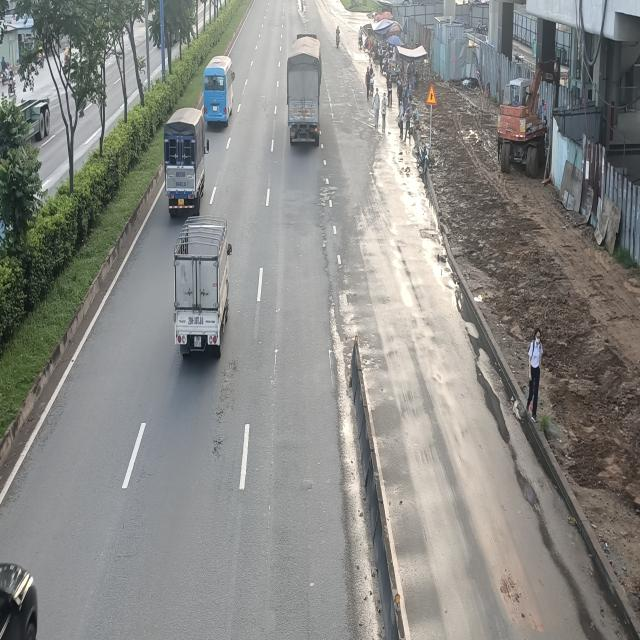coach: (204, 55, 234, 129)
truck: (172, 219, 233, 358), (162, 109, 207, 220), (284, 35, 320, 146)
